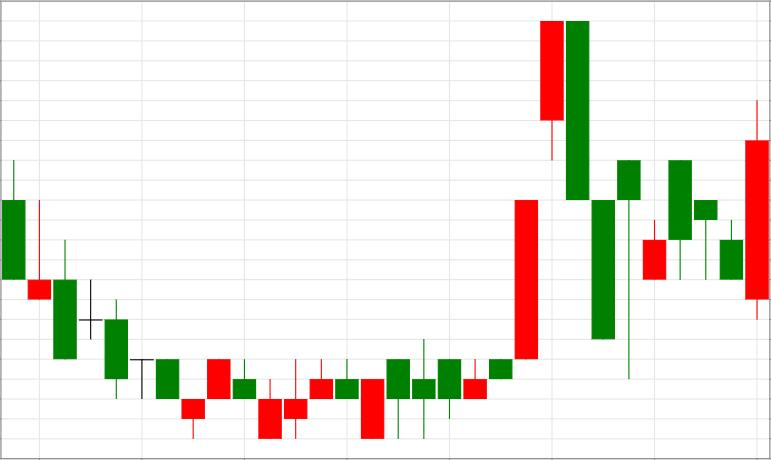bearish_engulfing_fall: (463, 20, 589, 399)
bullish_engulfing_rise: (669, 100, 770, 319)
morning_star_rise: (52, 239, 230, 439)
